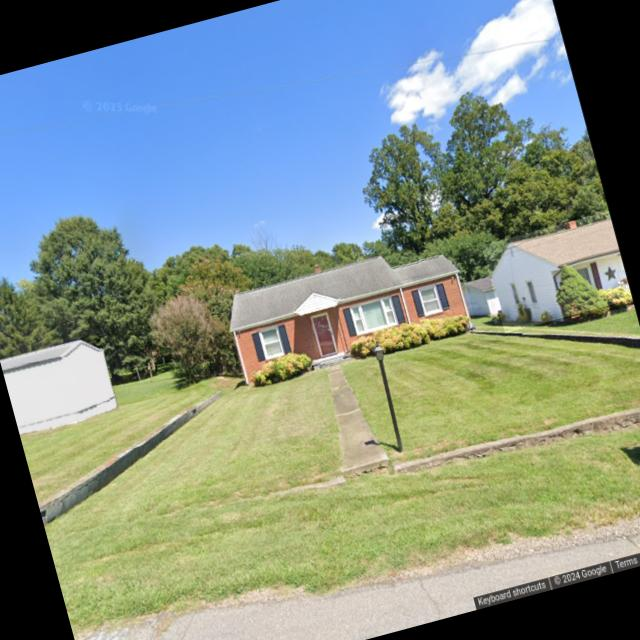House: (220, 233, 475, 381), (481, 210, 632, 332), (0, 332, 119, 435)
